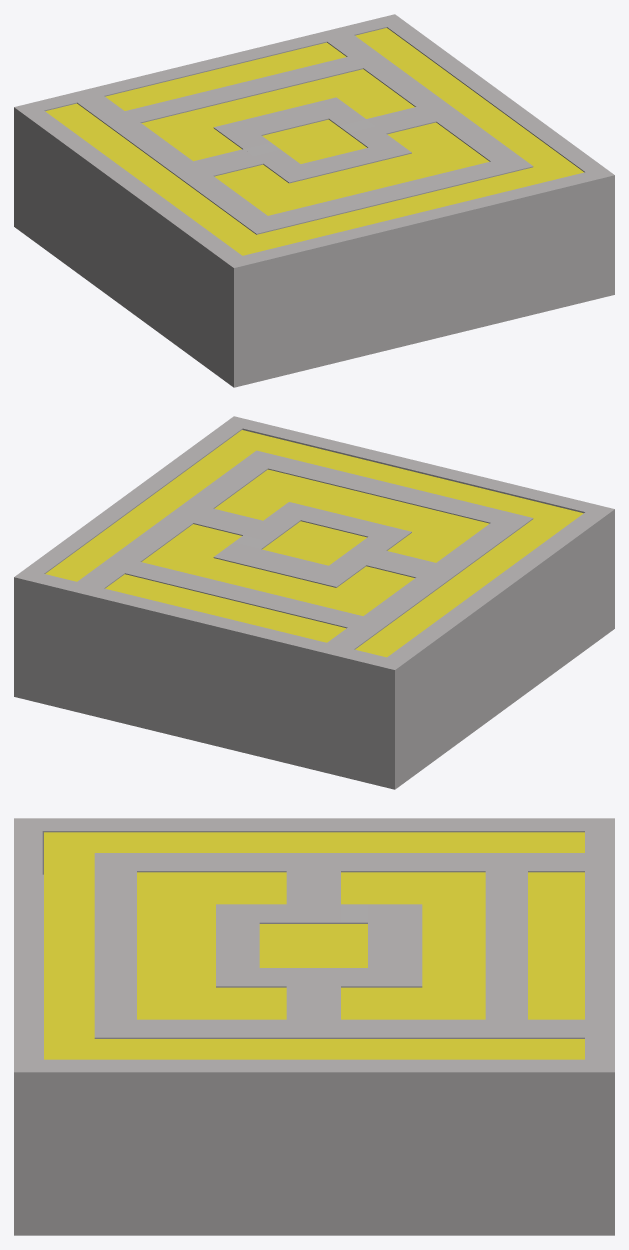
File: Base Tile 1 Yellow.fbx
3 renders of one model, top to bottom at view 1: azimuth 30°, elevation 25°; view 2: azimuth 150°, elevation 25°; view 3: azimuth 270°, elevation 25°, orthographic. The views are drawn at different scales.
Parts seen in each view (by area): view 1: Body, Color 1; view 2: Body, Color 1; view 3: Body, Color 1.
Boxes of the visible parts, bbox=[...] form: Body: bbox=[14, 14, 614, 387]; Color 1: bbox=[45, 28, 583, 255]; Body: bbox=[14, 416, 614, 789]; Color 1: bbox=[45, 430, 583, 657]; Body: bbox=[14, 818, 614, 1235]; Color 1: bbox=[44, 832, 584, 1059].
Bounding box in the file's own units: 200 × 60.02 × 200.
